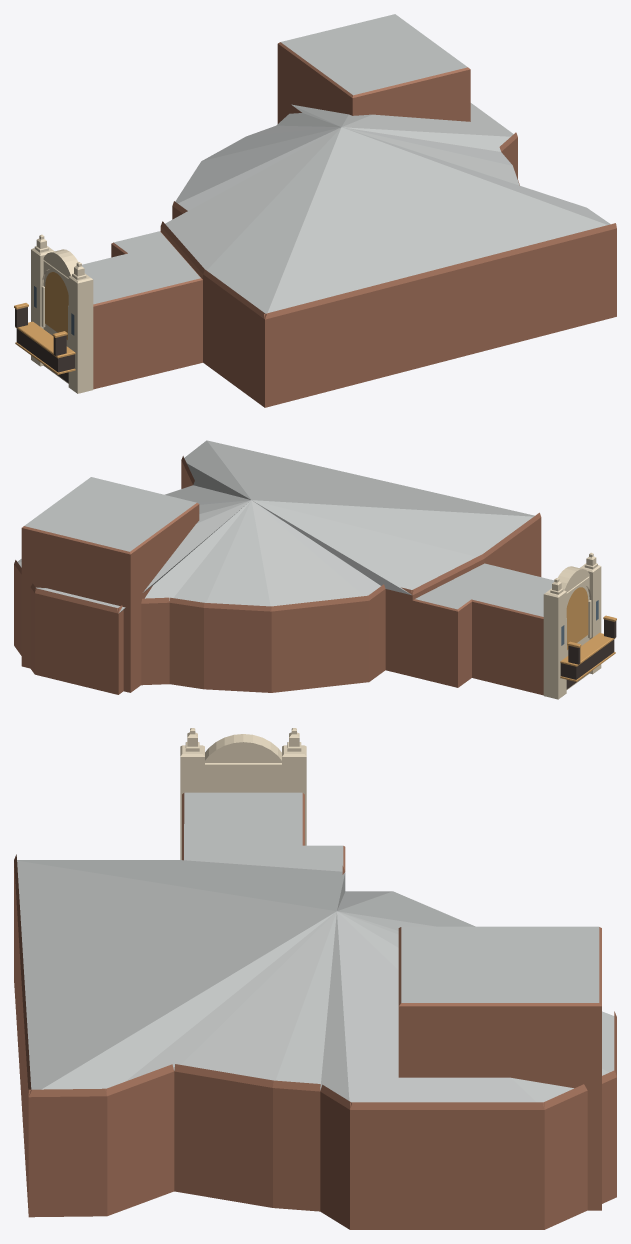
The model's file is nyc-kings-theatre.glb.
3 renders of one model, top to bottom at view 1: azimuth 30°, elevation 25°; view 2: azimuth 150°, elevation 25°; view 3: azimuth 270°, elevation 25°, orthographic. The views are drawn at different scales.
Parts seen in each view (by area): view 1: Kings Theatre; view 2: Kings Theatre; view 3: Kings Theatre.
Part boxes in pixels (bbox=[...]): Kings Theatre: bbox=[14, 14, 616, 407]; Kings Theatre: bbox=[14, 440, 616, 699]; Kings Theatre: bbox=[14, 728, 616, 1229].
Bounding box in the file's own units: 92.86 × 25.8 × 68.29.
